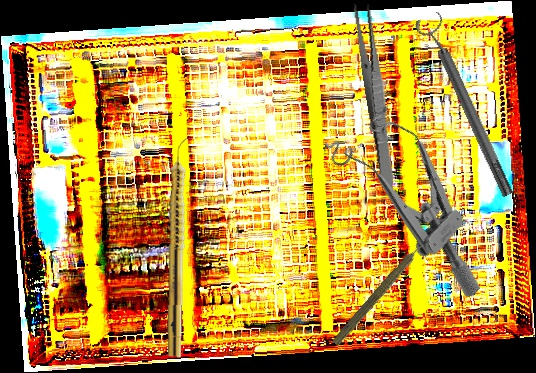Dressing Forceps: (351, 1, 401, 191)
Fixation Ring: (412, 9, 522, 203)
Handpiece: (330, 233, 434, 351), (166, 137, 190, 358)
Speculum: (310, 91, 531, 301)
